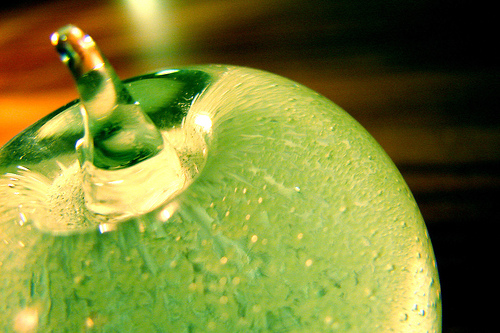apple: (3, 23, 443, 332)
